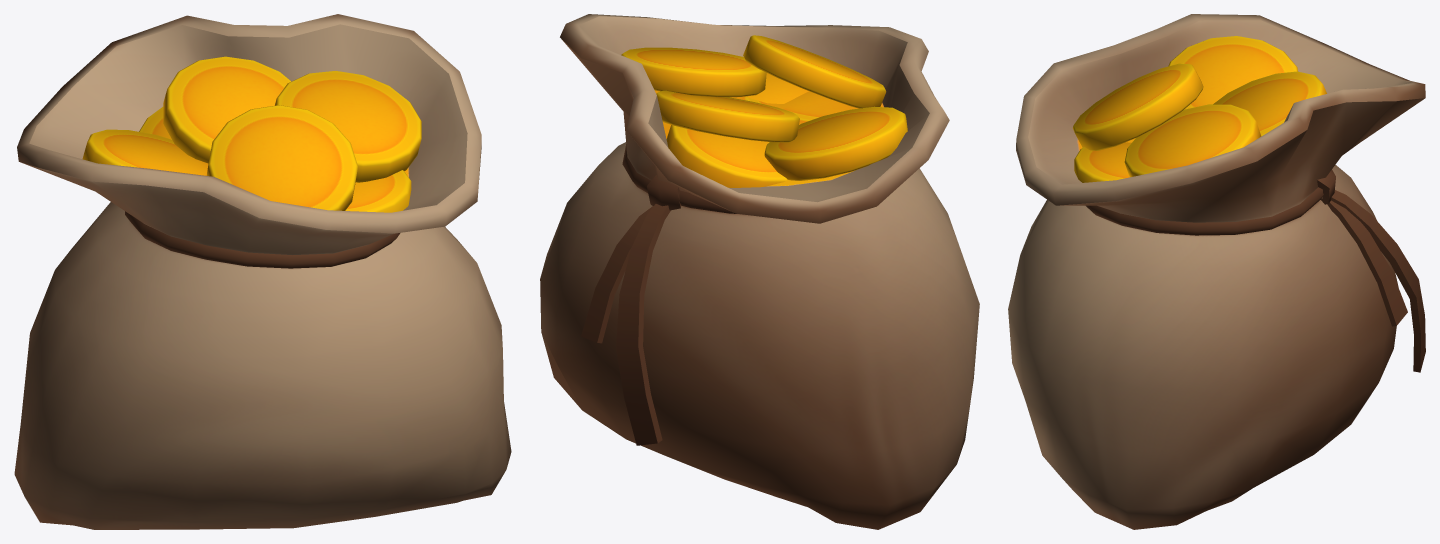
The model's file is MoneySack.FBX.
The picture shows the model from 3 angles, left to right: view 1: azimuth 30°, elevation 25°; view 2: azimuth 150°, elevation 25°; view 3: azimuth 270°, elevation 25°; orthographic projection. The views are drawn at different scales.
Parts seen in each view (by area): view 1: MoneySack; view 2: MoneySack; view 3: MoneySack.
Boxes of the visible parts, x1,y1,x2,y2 form: MoneySack: [14, 14, 511, 529]; MoneySack: [540, 14, 979, 529]; MoneySack: [1008, 14, 1425, 529].
Bounding box in the file's own units: 165 × 160 × 156.
Materials: 1 (1 with a texture image).
